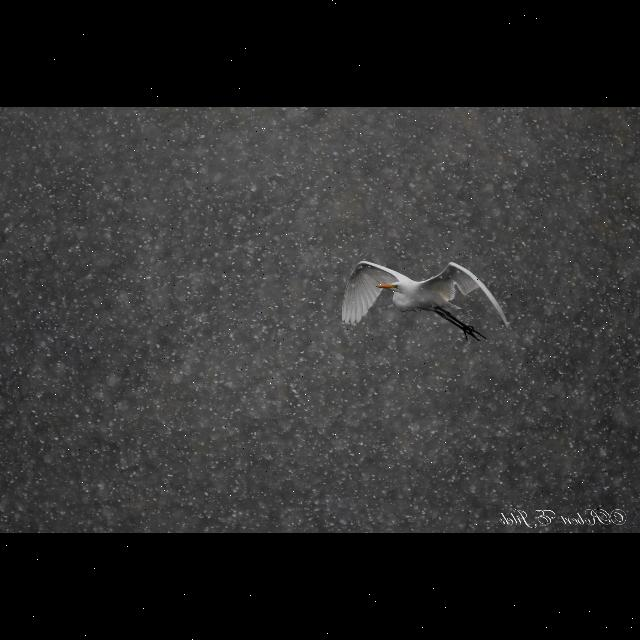egret: (333, 255, 509, 349)
